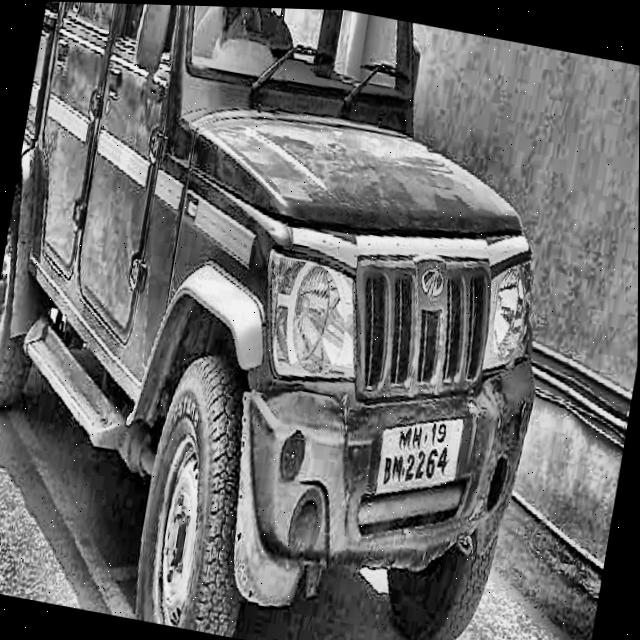light_vehicle: (0, 0, 597, 586)
